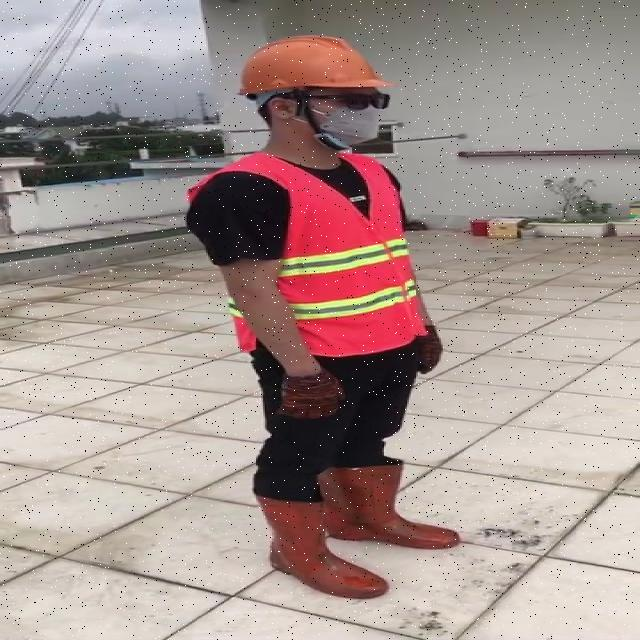Hard_hat: (232, 32, 405, 110)
Vest: (269, 148, 416, 363)
